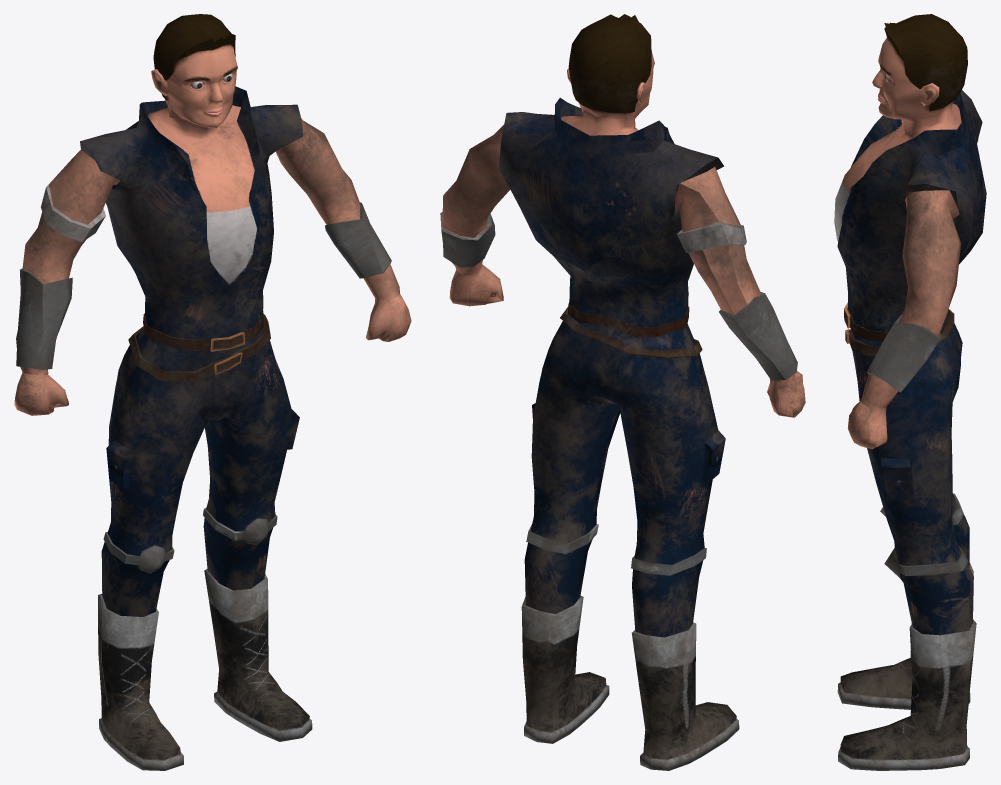
File: Anim_idle_jugador.0030.obj
3 renders of one model, left to right at view 1: azimuth 30°, elevation 25°; view 2: azimuth 150°, elevation 25°; view 3: azimuth 270°, elevation 25°, orthographic.
Visible parts, largest first — view 1: polySurface1; view 2: polySurface1; view 3: polySurface1.
Boxes of the visible parts, x1,y1,x2,y2 form: polySurface1: [14, 14, 411, 770]; polySurface1: [440, 14, 805, 770]; polySurface1: [834, 14, 986, 770].
Bounding box in the file's own units: 5.26 × 9.63 × 1.86.
